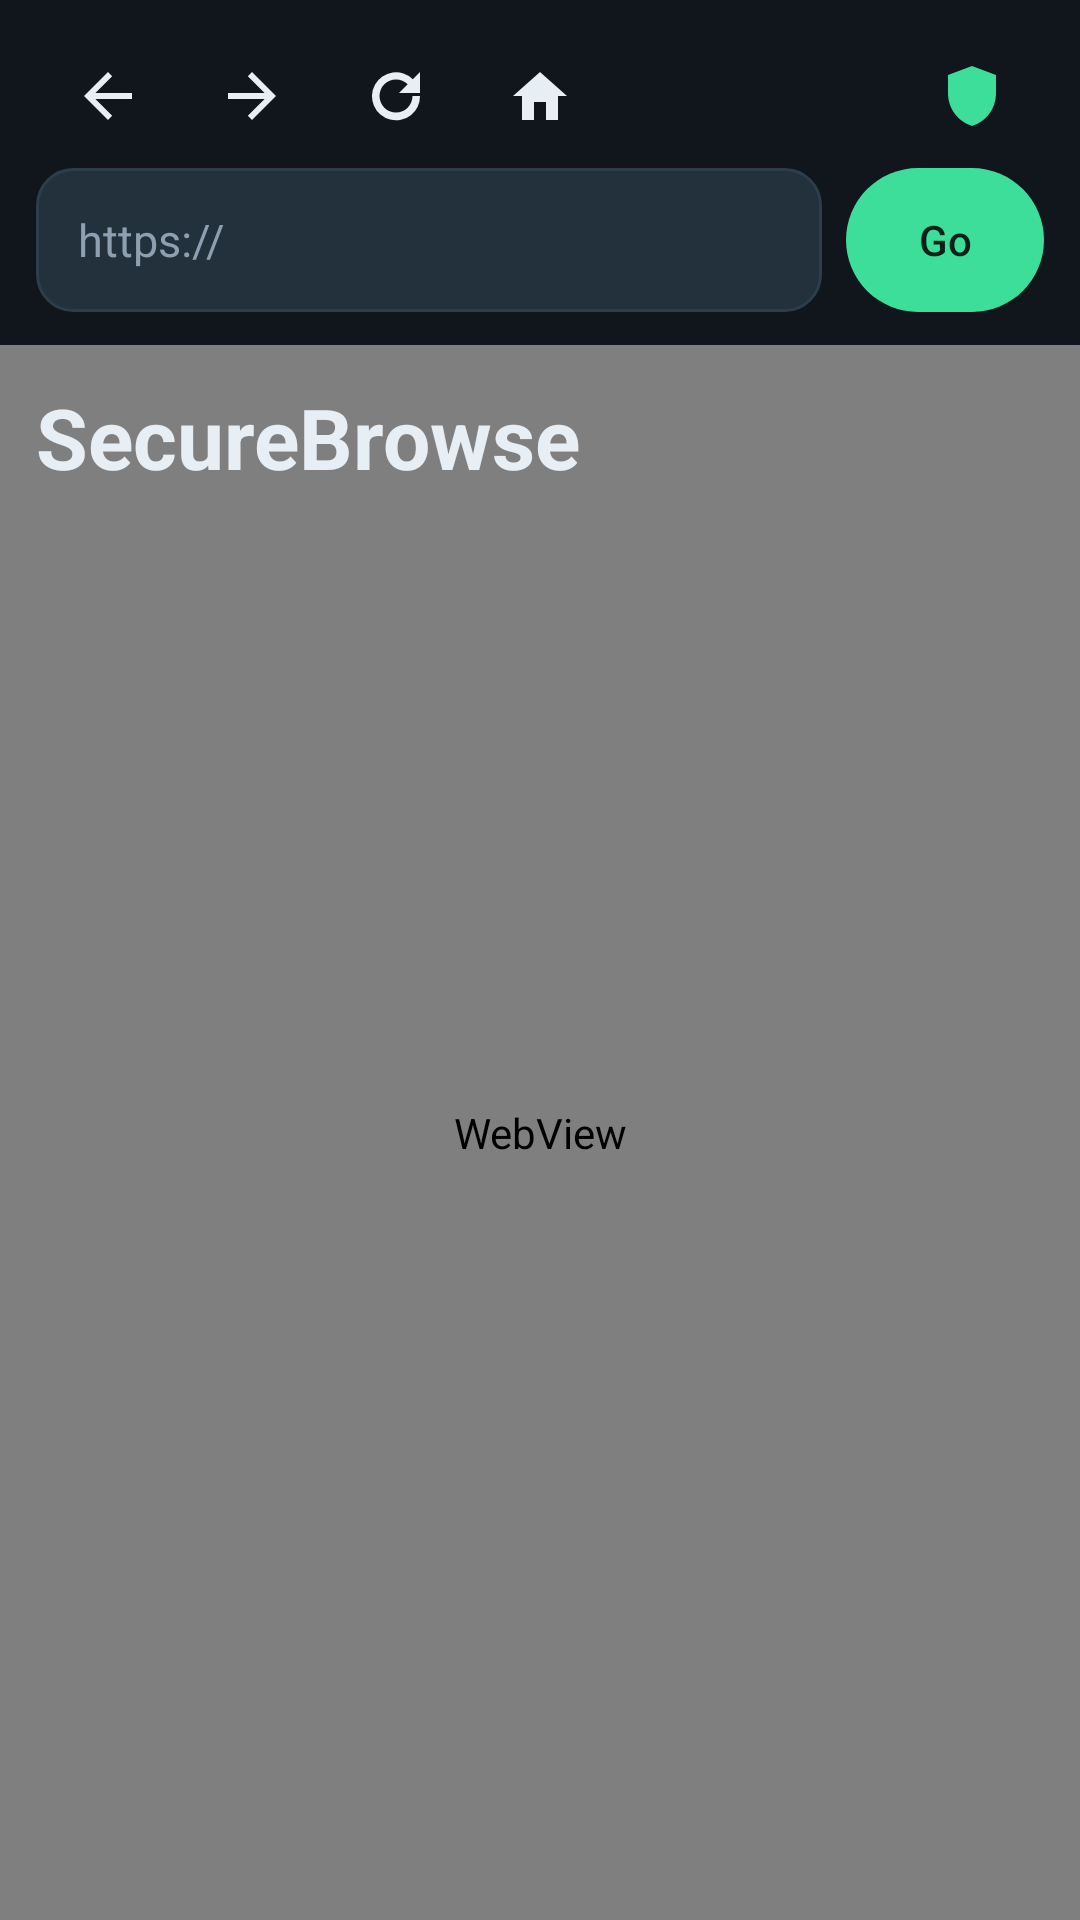

Icons on this 1080x1920 Android screen, each with its box as (x1, y1, x2, y2):
Administrator: (948, 66, 996, 126)
Back: (84, 72, 132, 120)
Forward: (228, 72, 276, 120)
Home: (513, 72, 567, 120)
Refresh: (372, 72, 420, 121)
